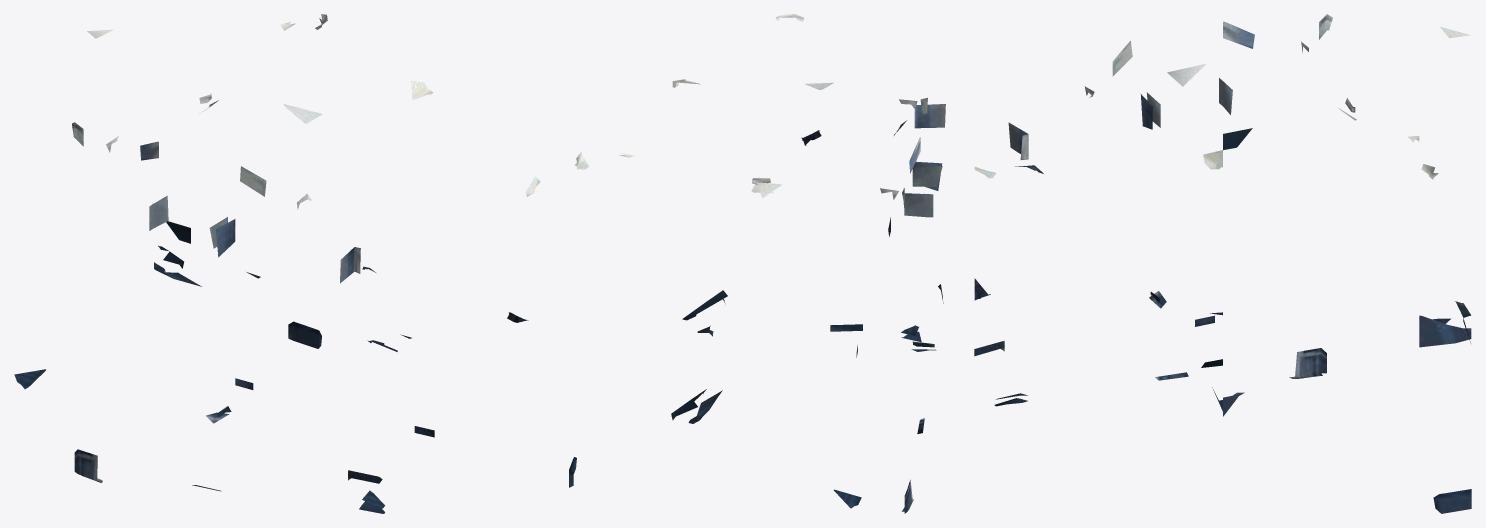
The picture shows the model from 3 angles, left to right: view 1: azimuth 30°, elevation 25°; view 2: azimuth 150°, elevation 25°; view 3: azimuth 270°, elevation 25°; orthographic projection. The views are drawn at different scales.
Parts seen in each view (by area): view 1: 30436272704370436425_2; view 2: 30436272704370436425_2; view 3: 30436272704370436425_2.
Part boxes in pixels (x1,y1,x2,y2): 30436272704370436425_2: [14, 14, 540, 513]; 30436272704370436425_2: [569, 14, 945, 513]; 30436272704370436425_2: [974, 14, 1471, 513].
Bounding box in the file's own units: 27.32 × 32.67 × 38.26.
1 material, 1 textured.
